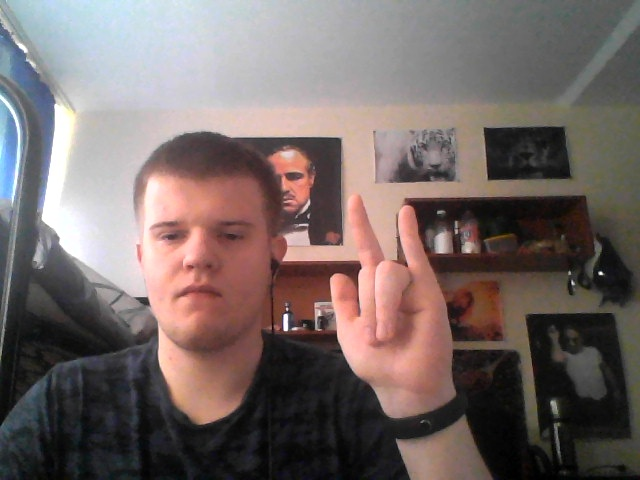iloveyou: (324, 192, 459, 389)
